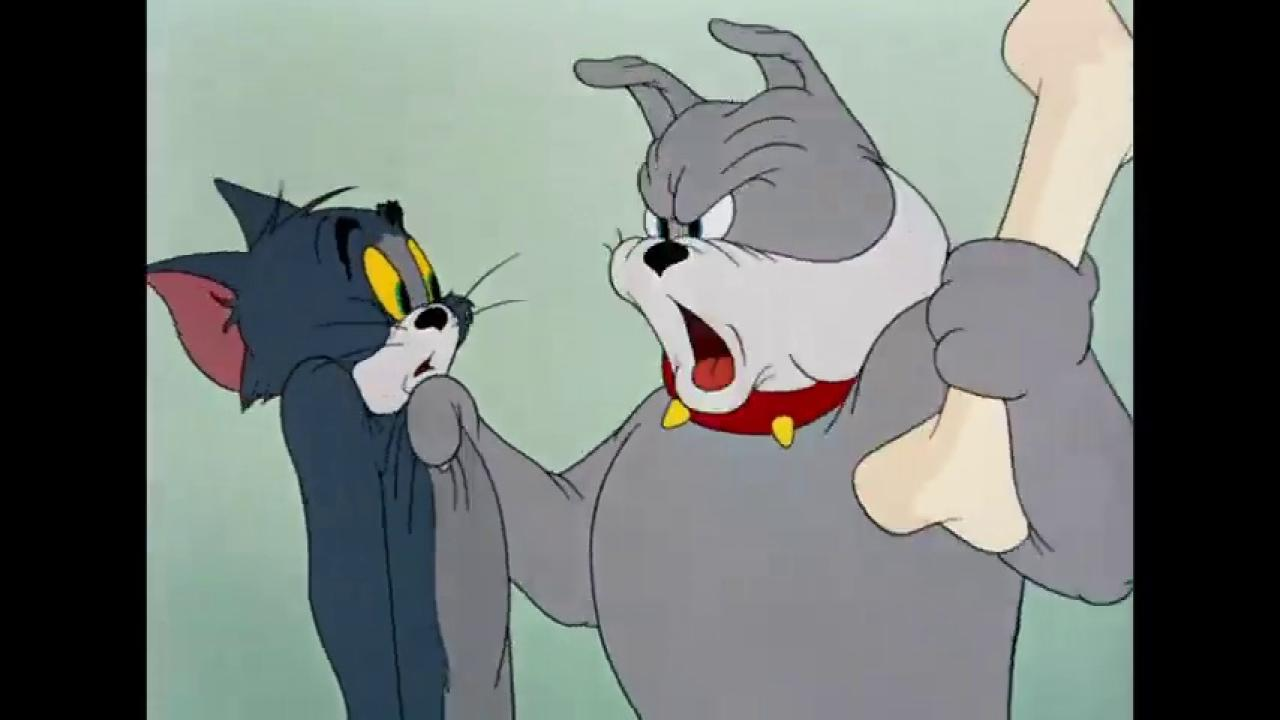Tom: (148, 174, 519, 720)
